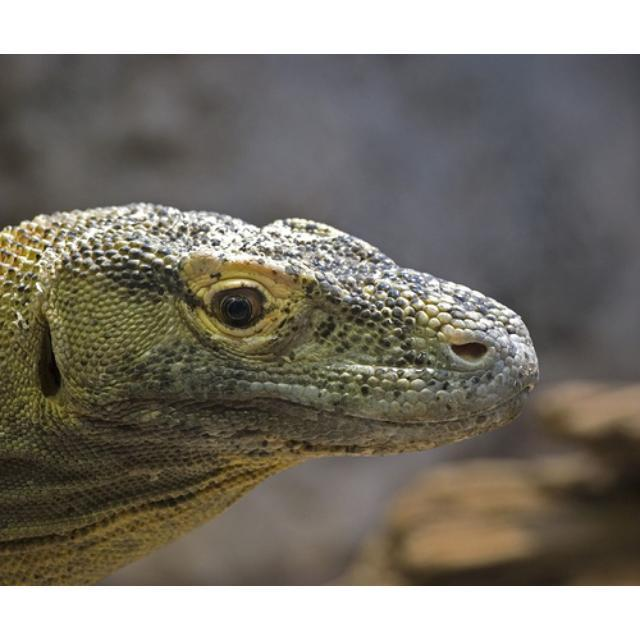KomodoDragon: (2, 203, 535, 583)
